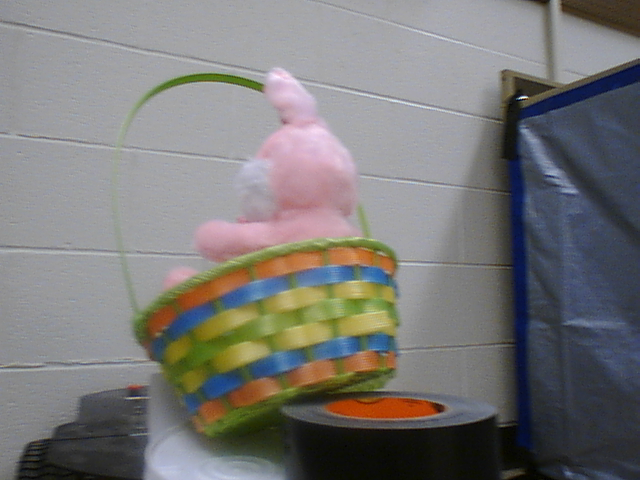bunny: (98, 61, 425, 439)
